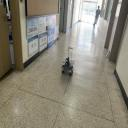cart: (62, 60, 74, 76)
